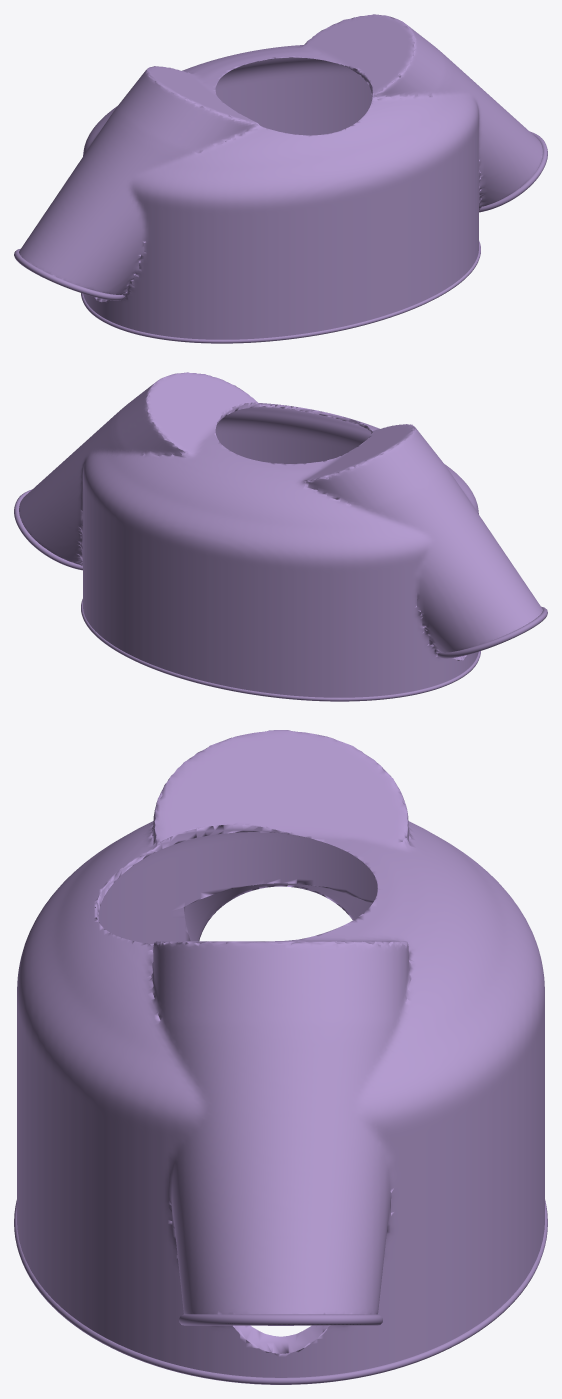
Rendered from Masculine-sweatshirt-top.glb.
3 renders of one model, top to bottom at view 1: azimuth 30°, elevation 25°; view 2: azimuth 150°, elevation 25°; view 3: azimuth 270°, elevation 25°, orthographic. The views are drawn at different scales.
Visible parts, largest first — view 1: Clothing / sweatshirt, Shirt / hem export, Sleeve / seated cuff -1 export, Sleeve / seated cuff 1 export; view 2: Clothing / sweatshirt, Shirt / hem export, Sleeve / seated cuff -1 export, Sleeve / seated cuff 1 export; view 3: Clothing / sweatshirt, Shirt / hem export, Sleeve / seated cuff 1 export.
Part boxes in pixels (<box>): Clothing / sweatshirt: <box>19,14,542,339</box>; Shirt / hem export: <box>81,241,480,343</box>; Sleeve / seated cuff -1 export: <box>14,248,124,300</box>; Sleeve / seated cuff 1 export: <box>479,131,547,212</box>; Clothing / sweatshirt: <box>19,372,542,697</box>; Shirt / hem export: <box>81,599,480,701</box>; Sleeve / seated cuff -1 export: <box>437,606,547,658</box>; Sleeve / seated cuff 1 export: <box>14,489,82,570</box>; Clothing / sweatshirt: <box>17,730,544,1377</box>; Shirt / hem export: <box>14,1200,547,1384</box>; Sleeve / seated cuff 1 export: <box>179,1314,382,1325</box>.
Size of the model in its own units: 1.12 by 0.4544 by 0.564.
